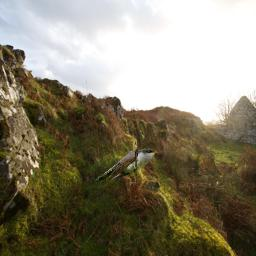Cuckoo: (89, 147, 158, 183)
